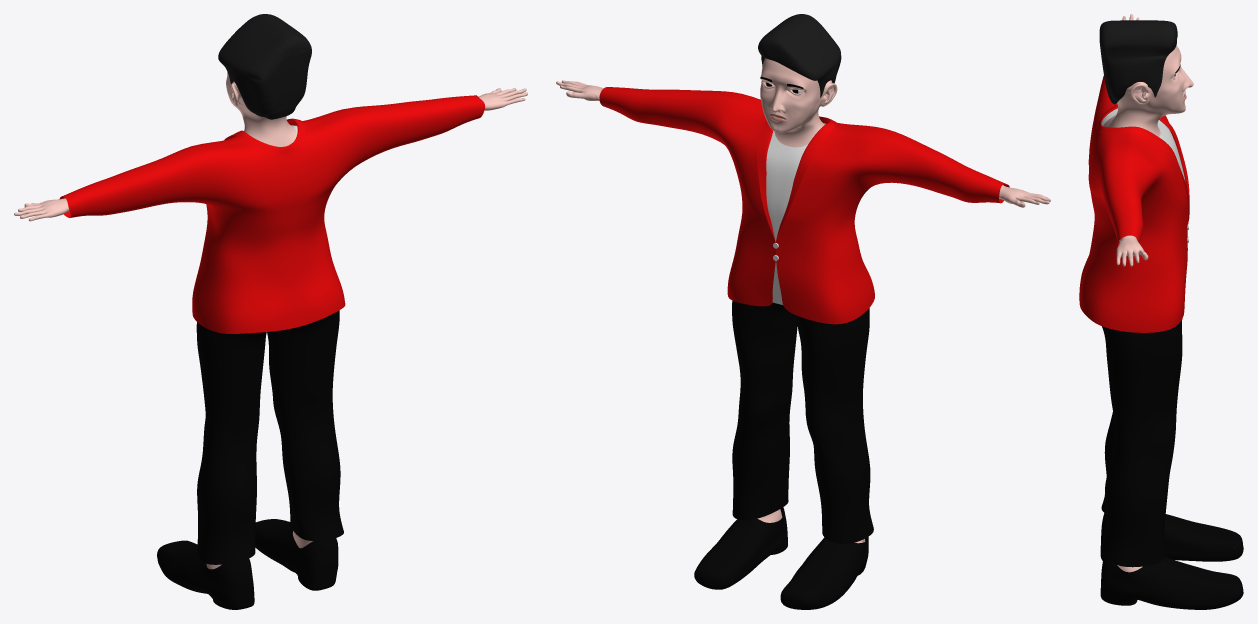
The model's file is OTWAR (Model).fbx.
3 renders of one model, left to right at view 1: azimuth 30°, elevation 25°; view 2: azimuth 150°, elevation 25°; view 3: azimuth 270°, elevation 25°, orthographic. The views are drawn at different scales.
Parts seen in each view (by area): view 1: Cube.005, Cube.006, Cube.000, Cube.002, Cube.004; view 2: Cube.005, Cube.006, Cube.000, Cube.004, Cube.002, Cube.007; view 3: Cube.005, Cube.006, Cube.000, Cube.002, Cube.004, Cube.007.
Boxes of the visible parts, left/top/right/bottom form: Cube.005: left=59, top=95, right=485, bottom=333; Cube.006: left=196, top=310, right=343, bottom=564; Cube.000: left=157, top=519, right=338, bottom=609; Cube.002: left=218, top=14, right=311, bottom=119; Cube.004: left=14, top=72, right=527, bottom=569; Cube.005: left=599, top=87, right=1009, bottom=324; Cube.006: left=732, top=300, right=873, bottom=544; Cube.000: left=694, top=507, right=868, bottom=609; Cube.004: left=556, top=58, right=1050, bottom=543; Cube.002: left=758, top=14, right=841, bottom=97; Cube.007: left=766, top=123, right=825, bottom=304; Cube.005: left=1079, top=75, right=1189, bottom=332; Cube.006: left=1101, top=319, right=1182, bottom=567; Cube.000: left=1100, top=513, right=1243, bottom=609; Cube.002: left=1099, top=20, right=1177, bottom=104; Cube.004: left=1103, top=14, right=1193, bottom=572; Cube.007: left=1101, top=108, right=1185, bottom=180.
Bounding box in the file's own units: 1477 × 1546 × 408.
